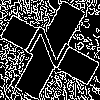Z: (25, 25, 80, 75)
